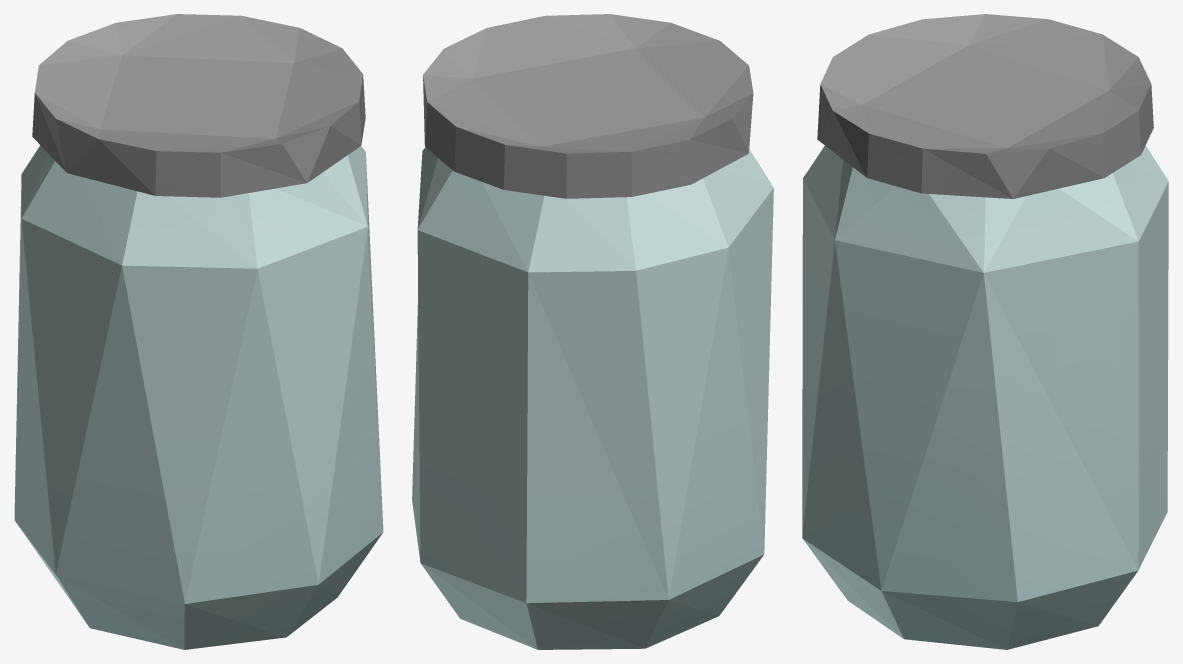
File: bottle2_1a.dae
The picture shows the model from 3 angles, left to right: view 1: azimuth 30°, elevation 25°; view 2: azimuth 150°, elevation 25°; view 3: azimuth 270°, elevation 25°; orthographic projection.
Visible parts, largest first — view 1: node; view 2: node; view 3: node.
Part boxes in pixels (<box>): node: <box>14,14,383,649</box>; node: <box>412,14,773,649</box>; node: <box>802,14,1168,649</box>.
Bounding box in the file's own units: 0.0694 × 0.1037 × 0.0679.
Materials: 1 (1 with a texture image).
